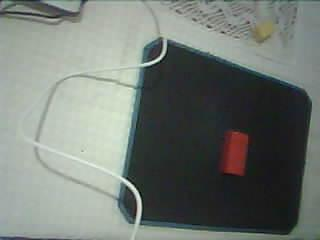lego: (219, 129, 250, 176), (251, 18, 275, 40)
